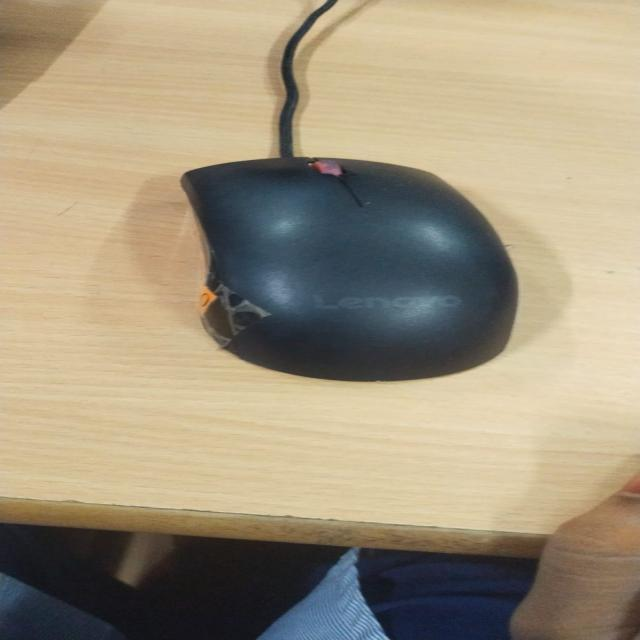Mouse: (99, 150, 626, 392)
